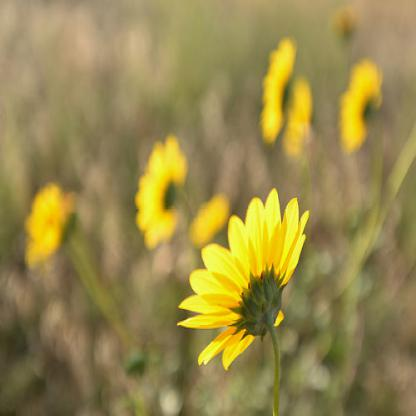SUN FLOWER: (15, 12, 402, 413)
